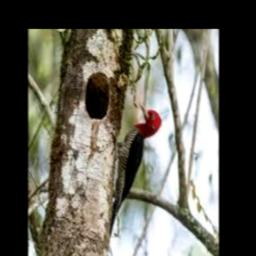Woodpecker: (109, 99, 161, 237)
